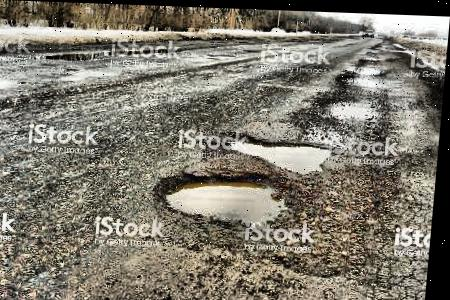pothole: (149, 163, 316, 234), (223, 129, 338, 172), (326, 95, 379, 120), (338, 70, 383, 85), (347, 60, 384, 71)
